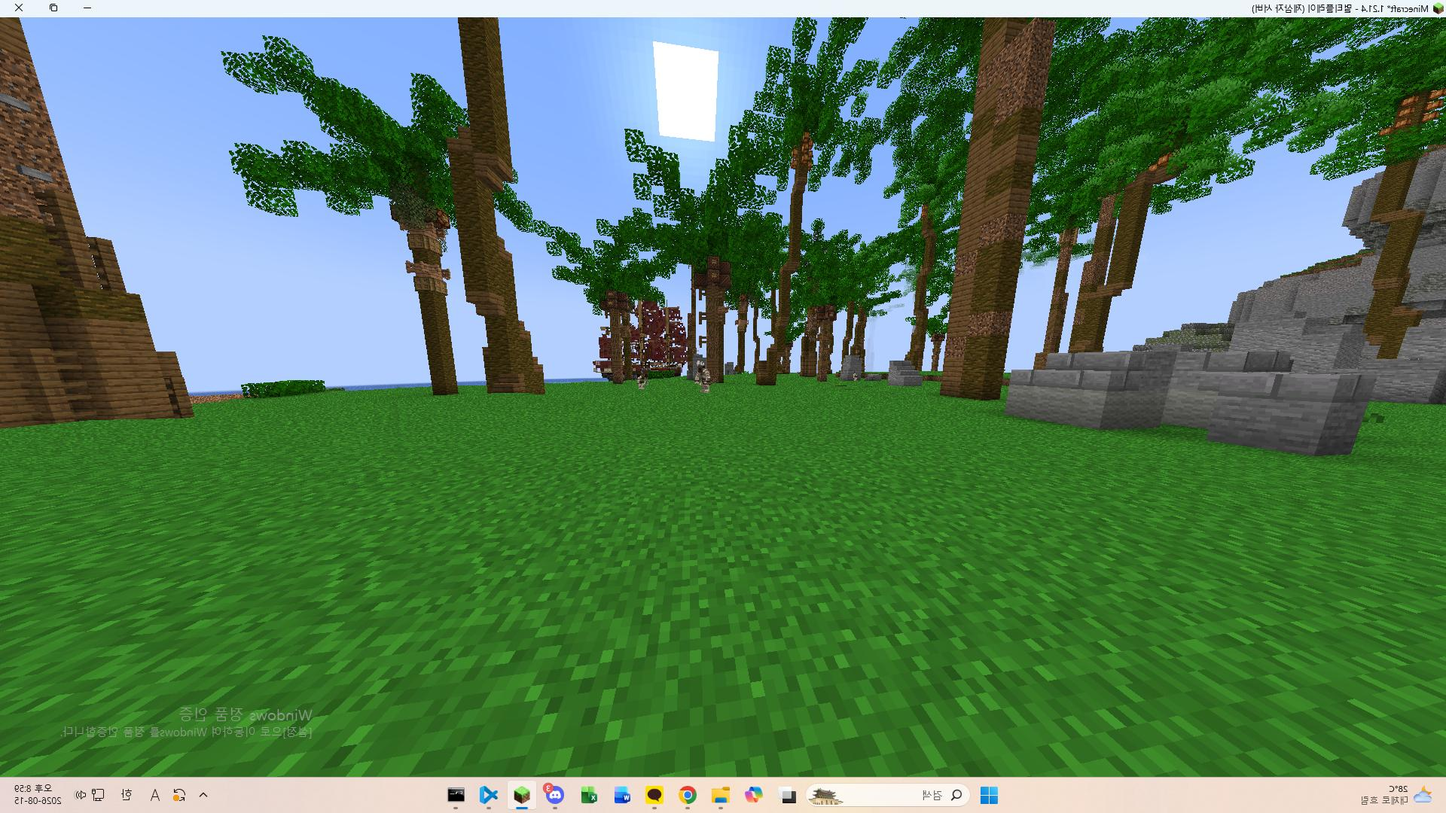bow_indian: (681, 353, 723, 412)
